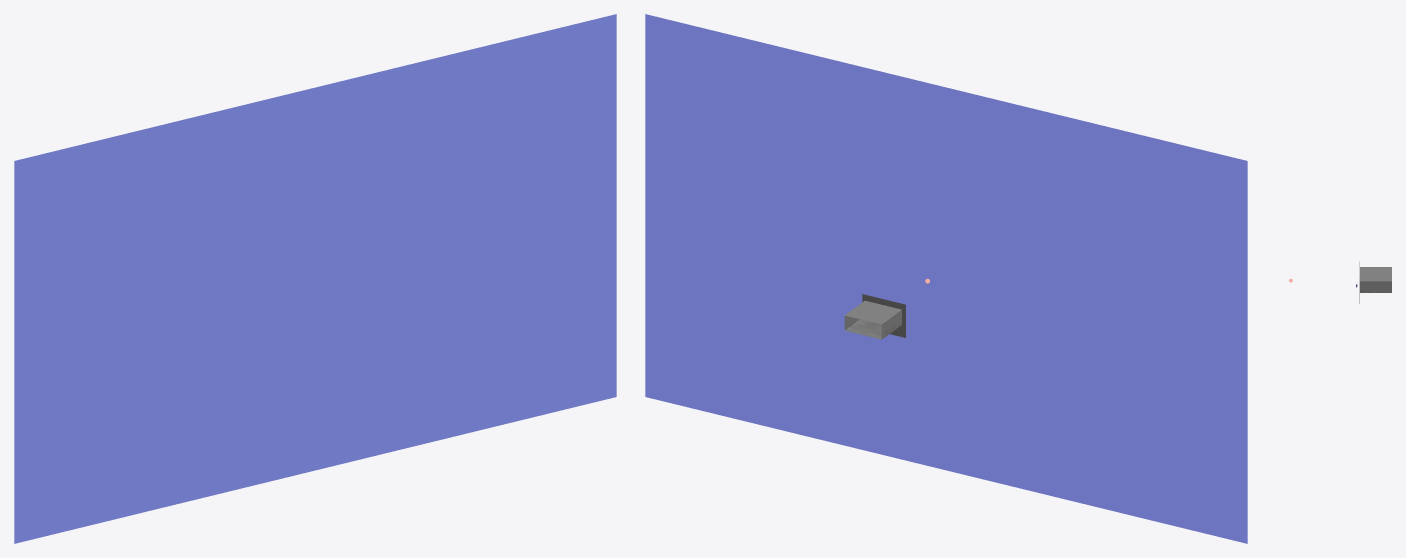
The model's file is myhome_export.gltf.
3 renders of one model, left to right at view 1: azimuth 30°, elevation 25°; view 2: azimuth 150°, elevation 25°; view 3: azimuth 270°, elevation 25°, orthographic. The views are drawn at different scales.
Parts seen in each view (by area): view 1: sky; view 2: sky, house; view 3: house.
Part boxes in pixels (<box>): sky: <box>14,14,616,543</box>; sky: <box>645,14,1247,543</box>; house: <box>844,294,905,339</box>; house: <box>1359,261,1391,303</box>.
Bounding box in the file's own units: 599 × 364 × 127.
7 materials, 4 textured.
